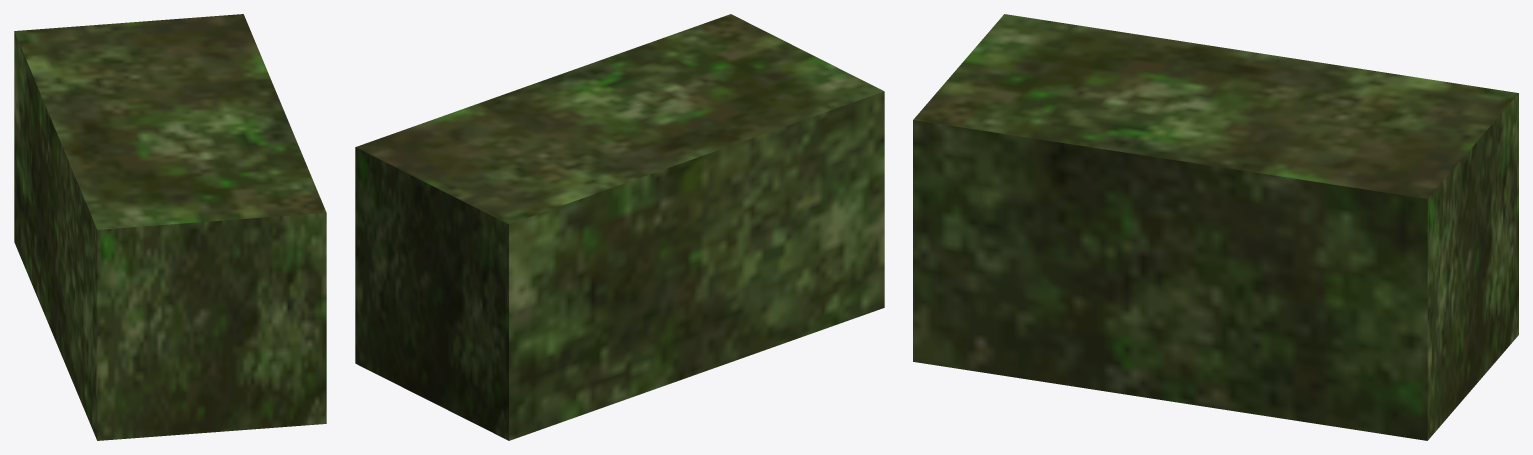
Rendered from OVERHILL_A_01_STONE_BLOCK_50.fbx.
3 views of the same model, side by side, from view 1: azimuth 30°, elevation 25°; view 2: azimuth 150°, elevation 25°; view 3: azimuth 270°, elevation 25° (orthographic). The views are drawn at different scales.
Visible parts, largest first — view 1: OVERHILL_A_01_STONE_BLOCK_50; view 2: OVERHILL_A_01_STONE_BLOCK_50; view 3: OVERHILL_A_01_STONE_BLOCK_50.
Boxes of the visible parts, x1,y1,x2,y2 form: OVERHILL_A_01_STONE_BLOCK_50: [14, 14, 326, 440]; OVERHILL_A_01_STONE_BLOCK_50: [355, 14, 884, 440]; OVERHILL_A_01_STONE_BLOCK_50: [913, 14, 1518, 440].
Size of the model in its own units: 12987 by 7913 by 17960.
Materials: 1 (1 with a texture image).
